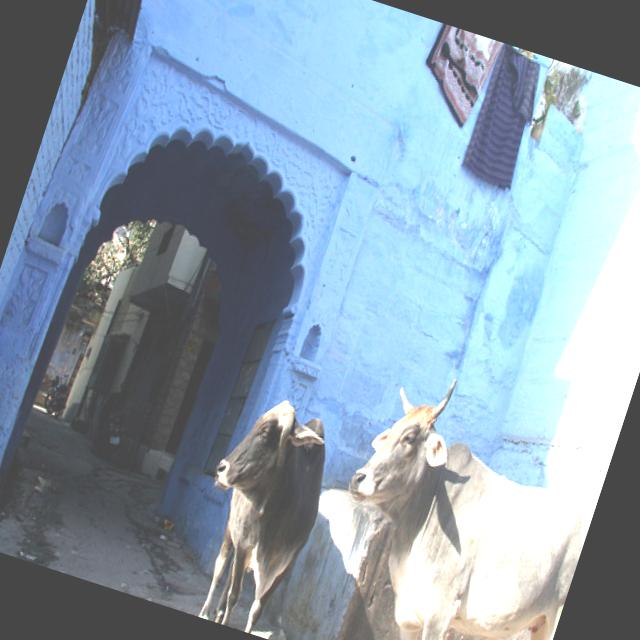Vehicle: (40, 372, 74, 420)
